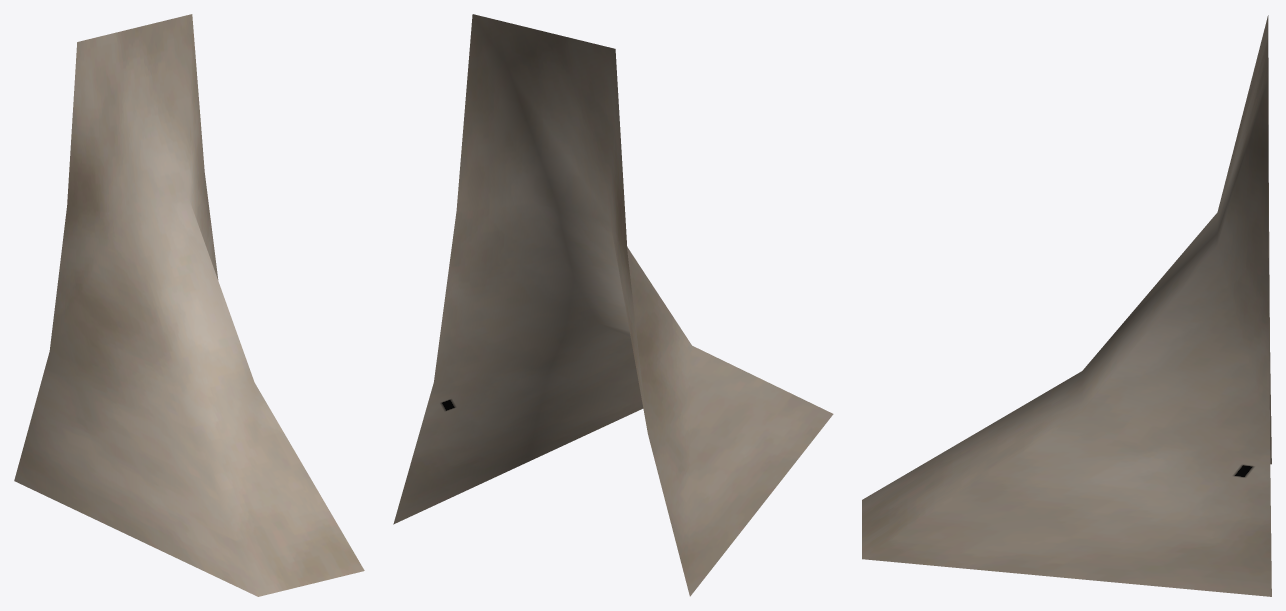
The model's file is web_08.fbx.
The picture shows the model from 3 angles, left to right: view 1: azimuth 30°, elevation 25°; view 2: azimuth 150°, elevation 25°; view 3: azimuth 270°, elevation 25°; orthographic projection. The views are drawn at different scales.
Parts seen in each view (by area): view 1: mine_tileset/mine_web03_mat; view 2: mine_tileset/mine_web03_mat; view 3: mine_tileset/mine_web03_mat.
Boxes of the visible parts, box(x1,y1,x2,y2) form: mine_tileset/mine_web03_mat: box(14, 14, 364, 596); mine_tileset/mine_web03_mat: box(393, 14, 833, 596); mine_tileset/mine_web03_mat: box(862, 15, 1271, 596).
Size of the model in its own units: 3.06 by 5.21 by 4.
